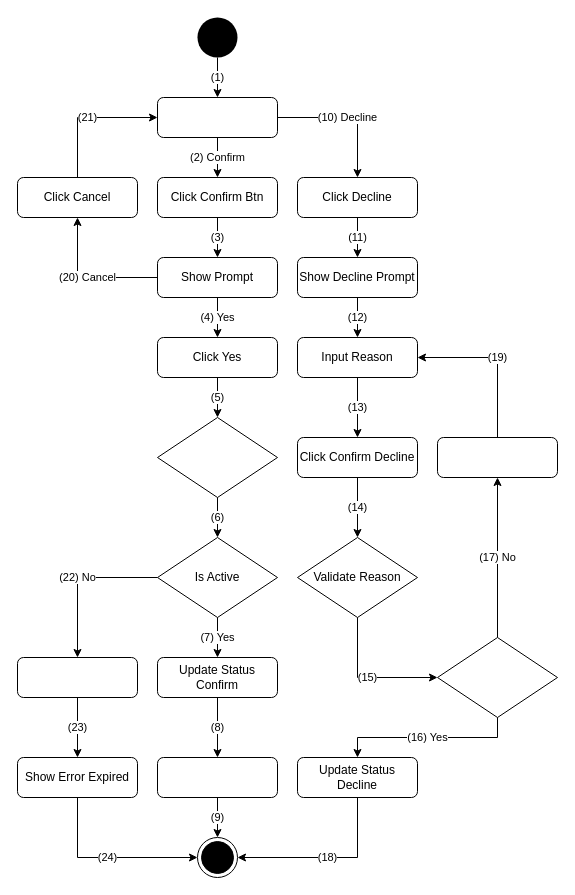
Image size: 575x895. Some labels were removed from this diagram. The centre of each missing label's shape, as x and y in pixels:
"Is Reason Valid" belongs at (x=497, y=677).
"Locate Invite" belongs at (x=217, y=117).
"Show Error Reason" belongs at (x=497, y=457).
"Show Success" belongs at (x=217, y=777).
"Update Status Missed" belongs at (x=77, y=677).
"Validate Time" belongs at (x=217, y=457).
